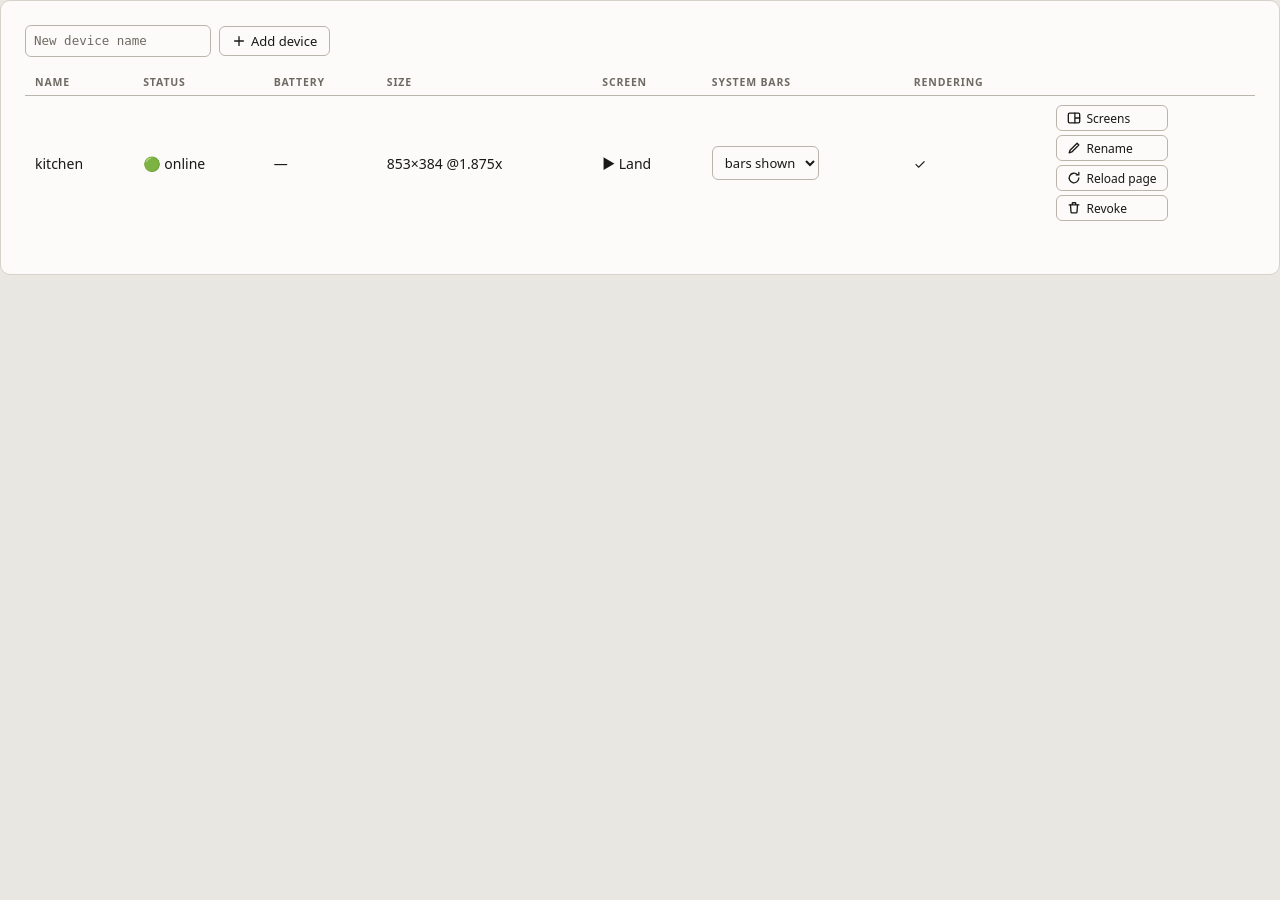
Test: Devices page — tabs editor › renders exactly one row for a single-tab device — the same editor, no special case
Expected: the text "kitchen" is shown, 25,96 -> 133,230
Click the button with aria-label "Screens for kitchen" at (1112, 118), box 1056,105 -> 1168,131
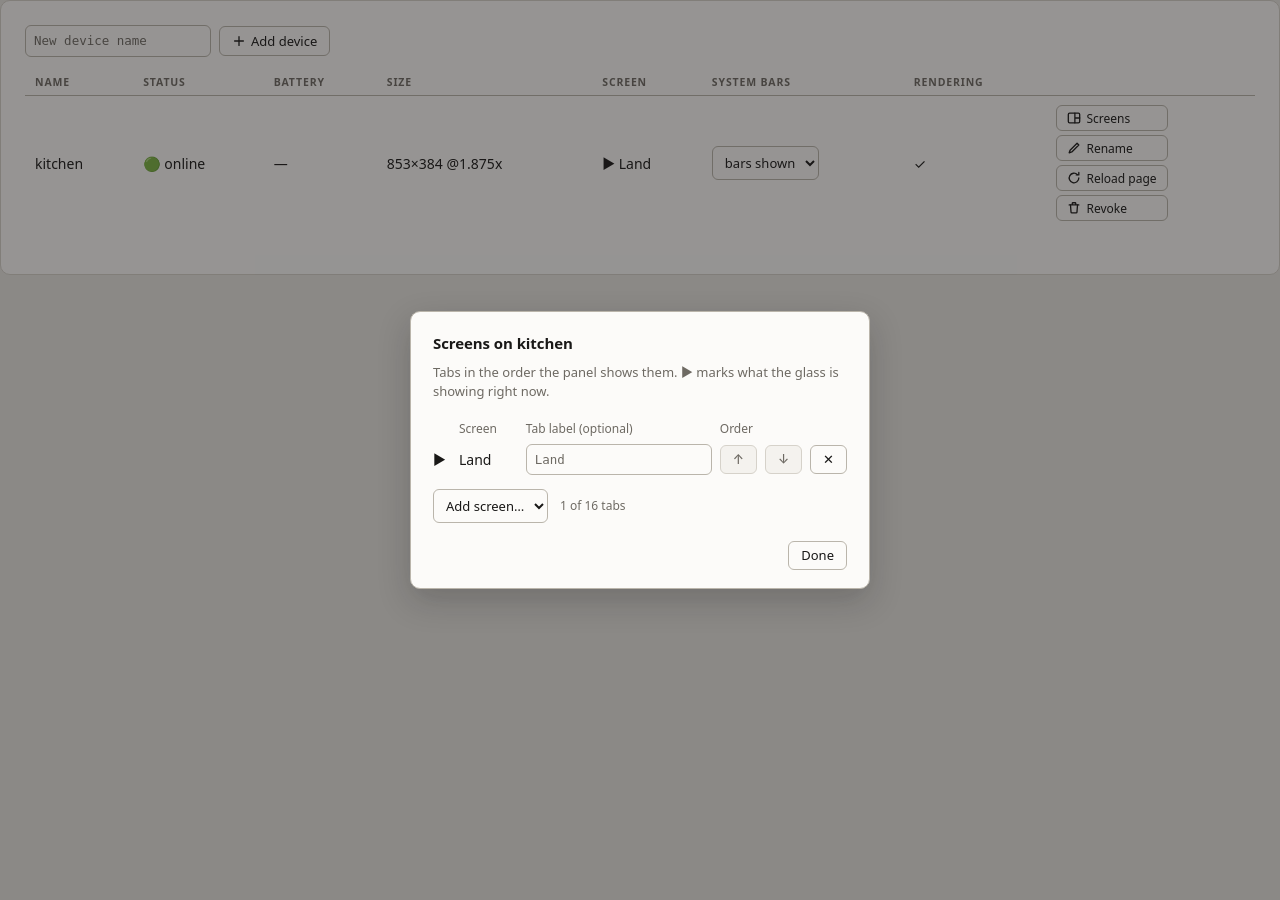
Expected: the number of fields named "Label for " is 1, 526,444 -> 712,475
